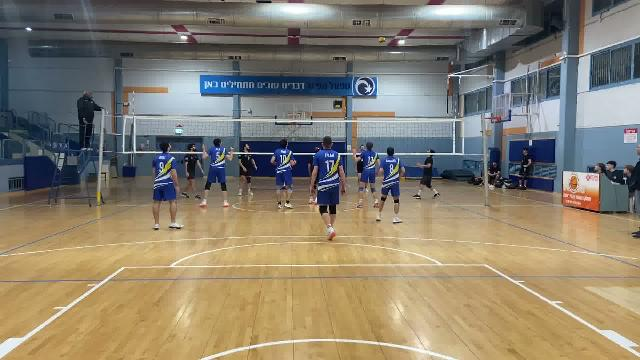ball: (376, 34, 387, 47)
